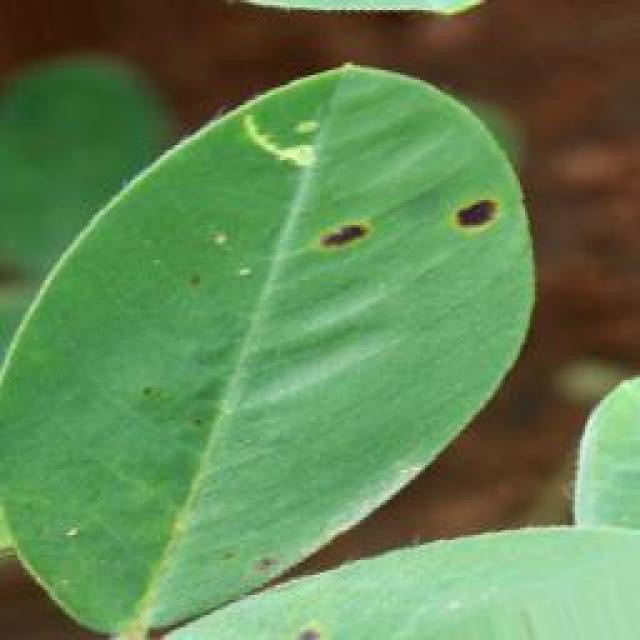Early_leaf_spot: (420, 166, 536, 266), (296, 190, 378, 292)
